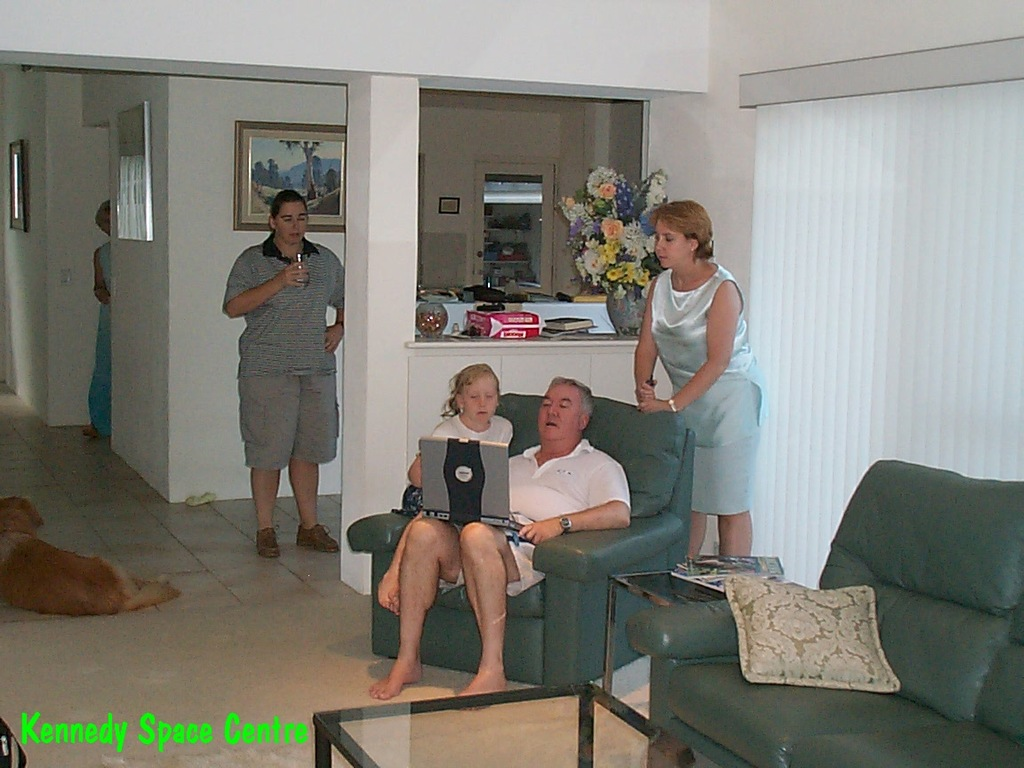Chair: (620, 454, 1023, 767)
